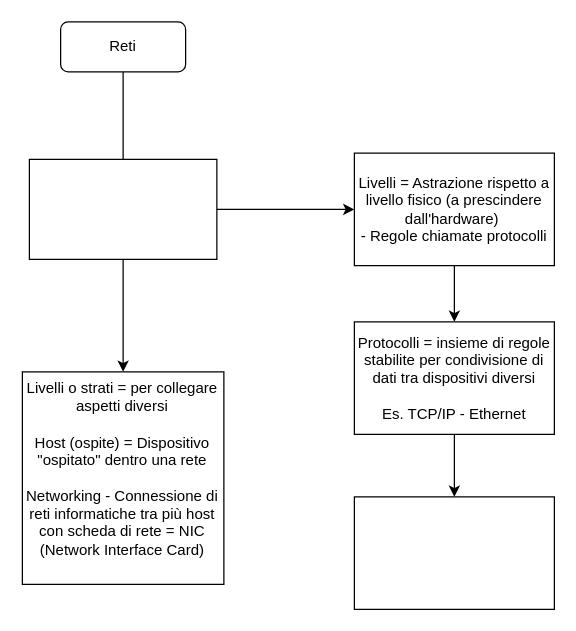
This 576x631 diagram has some shape labels left out. The shapes that lost their labels are listed below. From the top down, each one's box as (x1, y1, x2, y2) in pixels, then its label:
(28, 158, 217, 259): Architettura di rete = Gerarchia di dispositivi organizzati a livelli
(353, 496, 554, 609): Interfacce = Minimizzazione dati da trasferire SDU - Service Data Unit
